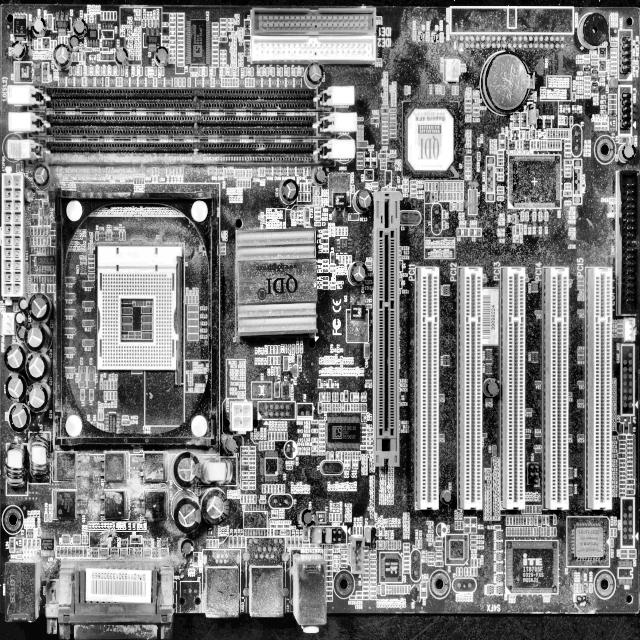PCB: (0, 5, 639, 637)
